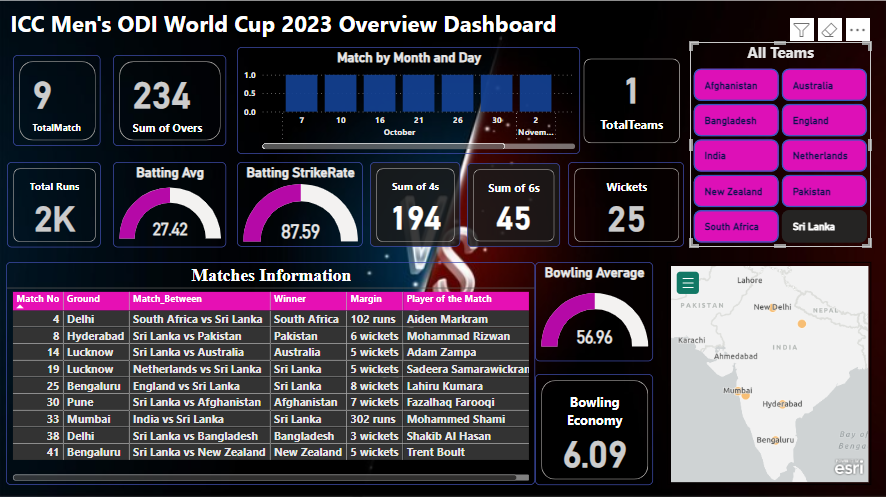

Layout of this report page (visuals, bound fields, positions):
{"tool":"powerbi","page":{"name":"ICC World Cup 2023 Overall Tournament Overview","canvas":[1280,720],"ordinal":0},"visuals":[{"type":"cardVisual","fields":{"Data":["Sum(bowling_summary.Overs)"]},"box":[165.9,84.1,162.5,130.7],"z":0},{"type":"cardVisual","fields":{"Data":["Key_Measures.wickets"]},"box":[820.8,237.6,167,122.4],"z":1000},{"type":"cardVisual","fields":{"Data":["Key_Measures.Total Runs"]},"box":[12.5,237.5,135.2,122.7],"z":2000},{"type":"lineClusteredColumnComboChart","title":"Match by Month and Day","fields":{"Category":["matches_schedule_results.Date.Variation.Date Hierarchy.Month","matches_schedule_results.Date.Variation.Date Hierarchy.Day"],"Y":["CountNonNull(matches_schedule_results.Match No)"]},"box":[344.2,72,493.9,154.1],"z":3000},{"type":"tableEx","title":"     Matches Information","fields":{"Values":["matches_schedule_results.Match No","matches_schedule_results.Ground","batting_summary_out.Match_Between","matches_schedule_results.Winner","matches_schedule_results.Margin","matches_schedule_results.Player of the Match"]},"box":[11.5,381.6,761.8,321.1],"z":4000},{"type":"advancedSlicerVisual","title":"All Teams","fields":{"Values":["world_cup_players_info.team_name"]},"box":[996.5,64.8,260.6,295.2],"z":5000},{"type":"cardVisual","title":"4s","fields":{"Data":["Sum(batting_summary_out.4s)"]},"box":[535.7,237.6,129.6,122.4],"z":6000},{"type":"cardVisual","fields":{"Data":["Sum(batting_summary_out.6s)"]},"box":[675.4,239,133.9,121],"z":7000},{"type":"cardVisual","fields":{"Data":["Key_Measures.TotalTeams"]},"box":[838.1,83.5,149.8,132.5],"z":8000},{"type":"cardVisual","fields":{"Data":["Key_Measures.TotalMatchesCount"]},"box":[21.6,84.1,126.1,130.7],"z":9000},{"type":"cardVisual","fields":{"Data":["Key_Measures.Economy"]},"box":[773.1,543.3,170.1,159.7],"z":10000},{"type":"gauge","fields":{"Y":["Key_Measures.Bowling Average"]},"box":[773.3,381.6,169.9,142.6],"z":11000},{"type":"gauge","fields":{"Y":["Key_Measures.Batting Avg"]},"box":[165.9,237.5,162.5,122.7],"z":12000},{"type":"gauge","fields":{"Y":["Key_Measures.Strike rate"]},"box":[344.2,237.6,181.4,122.4],"z":13000},{"type":"textbox","box":[12.5,10.2,808,54.5],"z":14000},{"type":"esriVisual","fields":{"Location":["matches_schedule_results.Ground"]},"box":[963.4,381.6,293.8,321.1],"z":15000}]}

Visuals, with their boxes in screenshot pixels (x1, y1, x2, y2), scaled from the page's 1280x720 canvas onto the 886x497 screenshot:
cardVisual - Sum(bowling_summary.Overs): locate(115, 58, 227, 148)
cardVisual - Key_Measures.wickets: locate(568, 164, 684, 248)
cardVisual - Key_Measures.Total Runs: locate(9, 164, 102, 249)
"Match by Month and Day" lineClusteredColumnComboChart: locate(238, 50, 580, 156)
"     Matches Information" tableEx: locate(8, 263, 535, 485)
"All Teams" advancedSlicerVisual: locate(690, 45, 870, 248)
"4s" cardVisual: locate(371, 164, 461, 248)
cardVisual - Sum(batting_summary_out.6s): locate(468, 165, 560, 248)
cardVisual - Key_Measures.TotalTeams: locate(580, 58, 684, 149)
cardVisual - Key_Measures.TotalMatchesCount: locate(15, 58, 102, 148)
cardVisual - Key_Measures.Economy: locate(535, 375, 653, 485)
gauge - Key_Measures.Bowling Average: locate(535, 263, 653, 362)
gauge - Key_Measures.Batting Avg: locate(115, 164, 227, 249)
gauge - Key_Measures.Strike rate: locate(238, 164, 364, 248)
textbox: locate(9, 7, 568, 45)
esriVisual - matches_schedule_results.Ground: locate(667, 263, 870, 485)
